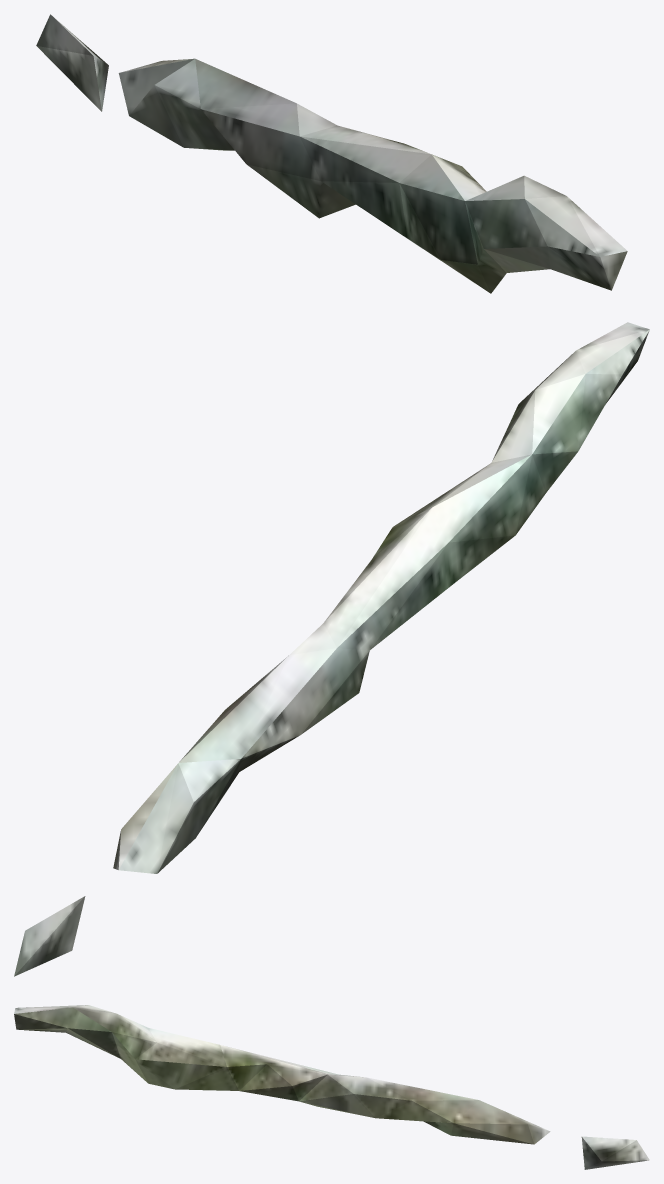
3 renders of one model, top to bottom at view 1: azimuth 30°, elevation 25°; view 2: azimuth 150°, elevation 25°; view 3: azimuth 270°, elevation 25°, orthographic. The views are drawn at different scales.
Bounding box in the file's own units: 0.1869 × 0.4749 × 1.81.
Materials: 1 (1 with a texture image).
